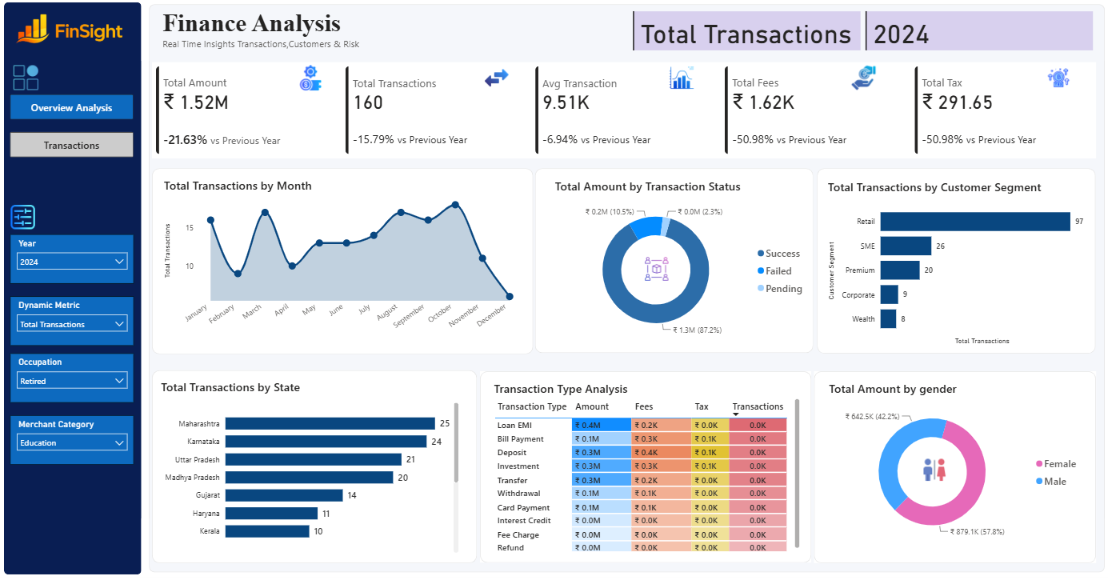

This screenshot's page, from the dashboard's own definition file:
{"tool":"powerbi","page":{"name":"Overview Analysis","canvas":[1800,950],"ordinal":0},"visuals":[{"type":"shape","box":[246.7,15,1542,916.7],"z":0},{"type":"shape","box":[13.3,11.7,221.7,923.3],"z":1000},{"type":"image","box":[13.3,15,215,80],"z":2000},{"type":"cardVisual","fields":{"Data":["finance_transactions.Dashboard Title"]},"box":[251.8,14.7,452.9,80.1],"z":3000},{"type":"slicer","fields":{"Values":["Calendar.Year"]},"box":[22.9,385.9,200,80],"z":4000},{"type":"cardVisual","fields":{"Data":["finance_transactions.Total Amount","Calendar.Total Transactions","Calendar.Avg Transaction","Calendar.Total Fees","Calendar.Total Tax"]},"box":[251.7,108.1,1523.1,154.9],"z":5000},{"type":"image","box":[482.4,107.9,50.7,50.7],"z":6000},{"type":"image","box":[783.3,107.9,50.7,50.7],"z":7000},{"type":"image","box":[1375.2,107.9,50.7,50.7],"z":8000},{"type":"image","box":[1689.1,107.9,50.7,50.7],"z":9000},{"type":"image","box":[1080.9,107.9,50.7,50.7],"z":10000},{"type":"slicer","fields":{"Values":["Dynamic Metric.Dynamic Metric"]},"box":[22.9,485.6,200,80],"z":11000},{"type":"shape","box":[251.6,279.6,615,300.1],"z":12000},{"type":"areaChart","fields":{"Category":["Calendar.Date.Variation.Date Hierarchy.Month"],"Y":["Calendar.Total Fees","Calendar.Total Tax","Calendar.Total Transactions","finance_transactions.Total Amount"]},"box":[266.5,294.3,585.4,266.5],"z":13000},{"type":"cardVisual","fields":{"Data":["Calendar.Selected Dynamic Measure","Calendar.Selected Year"]},"box":[1022.9,21,752.2,73.6],"z":14000},{"type":"shape","box":[870.4,279.6,449.2,298.2],"z":15000},{"type":"donutChart","fields":{"Category":["finance_transactions.transaction_status"],"Y":["finance_transactions.Total Amount"]},"box":[897.7,296,418.6,271.4],"z":16000},{"type":"shape","box":[1325.1,279.6,449.7,299.2],"z":17000},{"type":"shape","box":[251.6,605.7,520,311.2],"z":18000},{"type":"barChart","fields":{"Category":["customers.customer_segment"],"Y":["Calendar.Total Fees","Calendar.Total Tax","Calendar.Total Transactions","finance_transactions.Total Amount"]},"box":[1338.2,296.3,423.1,272.1],"z":19000},{"type":"barChart","fields":{"Category":["customers.state"],"Y":["Calendar.Total Fees","Calendar.Total Tax","Calendar.Total Transactions","finance_transactions.Total Amount"]},"box":[260.9,618.8,490.2,285.2],"z":20000},{"type":"shape","box":[781.6,606.7,534.7,309],"z":21000},{"type":"tableEx","title":"Transaction Type Analysis","fields":{"Values":["finance_transactions.transaction_type","finance_transactions.Total Amount","Calendar.Total Fees","Calendar.Total Tax","Calendar.Total Transactions"]},"box":[798,621.4,503.6,281.3],"z":22000},{"type":"shape","box":[1324.5,606.7,449.7,309],"z":23000},{"type":"donutChart","fields":{"Category":["customers.gender"],"Y":["finance_transactions.Total Amount"]},"box":[1342.5,621.4,418.6,271.4],"z":24000},{"type":"image","box":[1040,417,50.7,50.7],"z":25000},{"type":"image","box":[1489.6,740.7,50.7,50.7],"z":26000},{"type":"slicer","fields":{"Values":["finance_transactions.merchant_category"]},"box":[22.9,677,200,80],"z":27000},{"type":"slicer","fields":{"Values":["customers.occupation"]},"box":[22.9,577.2,200,80],"z":28000},{"type":"pageNavigator","box":[22.9,160.2,199.5,103],"z":29000},{"type":"image","box":[22.9,107.9,50.7,50.7],"z":30000},{"type":"image","box":[22.9,335.2,50.7,50.7],"z":31000}]}

Visuals, with their boxes in screenshot pixels (x1, y1, x2, y2), scaled from the page's 1800x950 canvas onto the 1108x578 screenshot:
shape: box(152, 9, 1101, 567)
shape: box(8, 7, 145, 569)
image: box(8, 9, 141, 58)
cardVisual - finance_transactions.Dashboard Title: box(155, 9, 434, 58)
slicer - Calendar.Year: box(14, 235, 137, 283)
cardVisual - finance_transactions.Total Amount x Calendar.Total Transactions: box(155, 66, 1092, 160)
image: box(297, 66, 328, 96)
image: box(482, 66, 513, 96)
image: box(847, 66, 878, 96)
image: box(1040, 66, 1071, 96)
image: box(665, 66, 697, 96)
slicer - Dynamic Metric.Dynamic Metric: box(14, 295, 137, 344)
shape: box(155, 170, 533, 353)
areaChart - Calendar.Date.Variation.Date Hierarchy.Month x Calendar.Total Fees: box(164, 179, 524, 341)
cardVisual - Calendar.Selected Dynamic Measure x Calendar.Selected Year: box(630, 13, 1093, 58)
shape: box(536, 170, 812, 352)
donutChart - finance_transactions.transaction_status x finance_transactions.Total Amount: box(553, 180, 810, 345)
shape: box(816, 170, 1092, 352)
shape: box(155, 369, 475, 558)
barChart - customers.customer_segment x Calendar.Total Fees: box(824, 180, 1084, 346)
barChart - customers.state x Calendar.Total Fees: box(161, 376, 462, 550)
shape: box(481, 369, 810, 557)
"Transaction Type Analysis" tableEx: box(491, 378, 801, 549)
shape: box(815, 369, 1092, 557)
donutChart - customers.gender x finance_transactions.Total Amount: box(826, 378, 1084, 543)
image: box(640, 254, 671, 285)
image: box(917, 451, 948, 482)
slicer - finance_transactions.merchant_category: box(14, 412, 137, 461)
slicer - customers.occupation: box(14, 351, 137, 400)
pageNavigator: box(14, 97, 137, 160)
image: box(14, 66, 45, 96)
image: box(14, 204, 45, 235)
